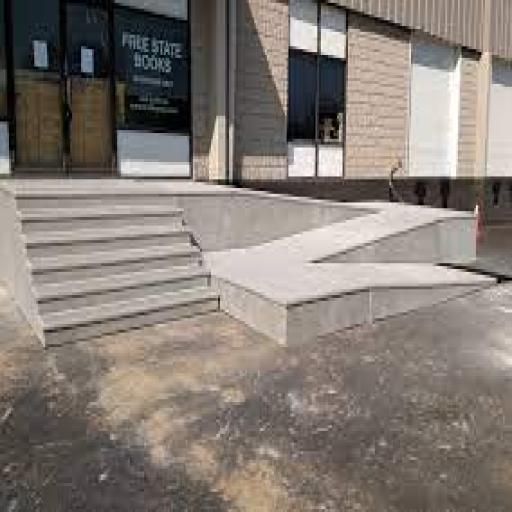ramp: (237, 263, 495, 350), (238, 208, 476, 264)
stairs: (14, 194, 216, 347)
